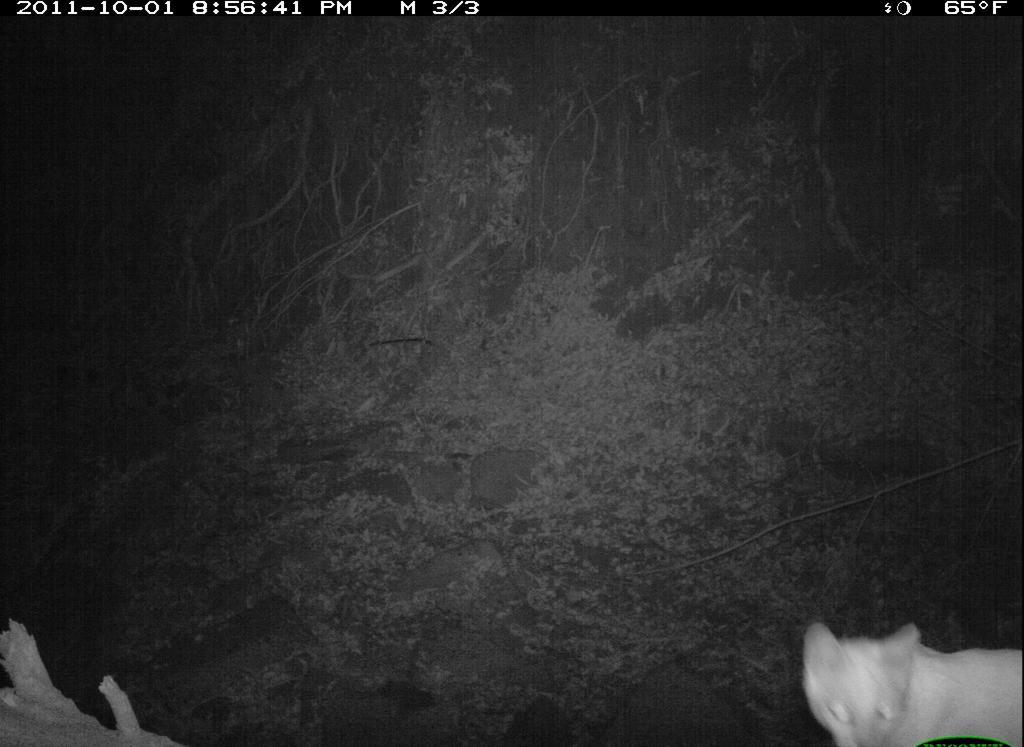cat: (789, 609, 1023, 747)
